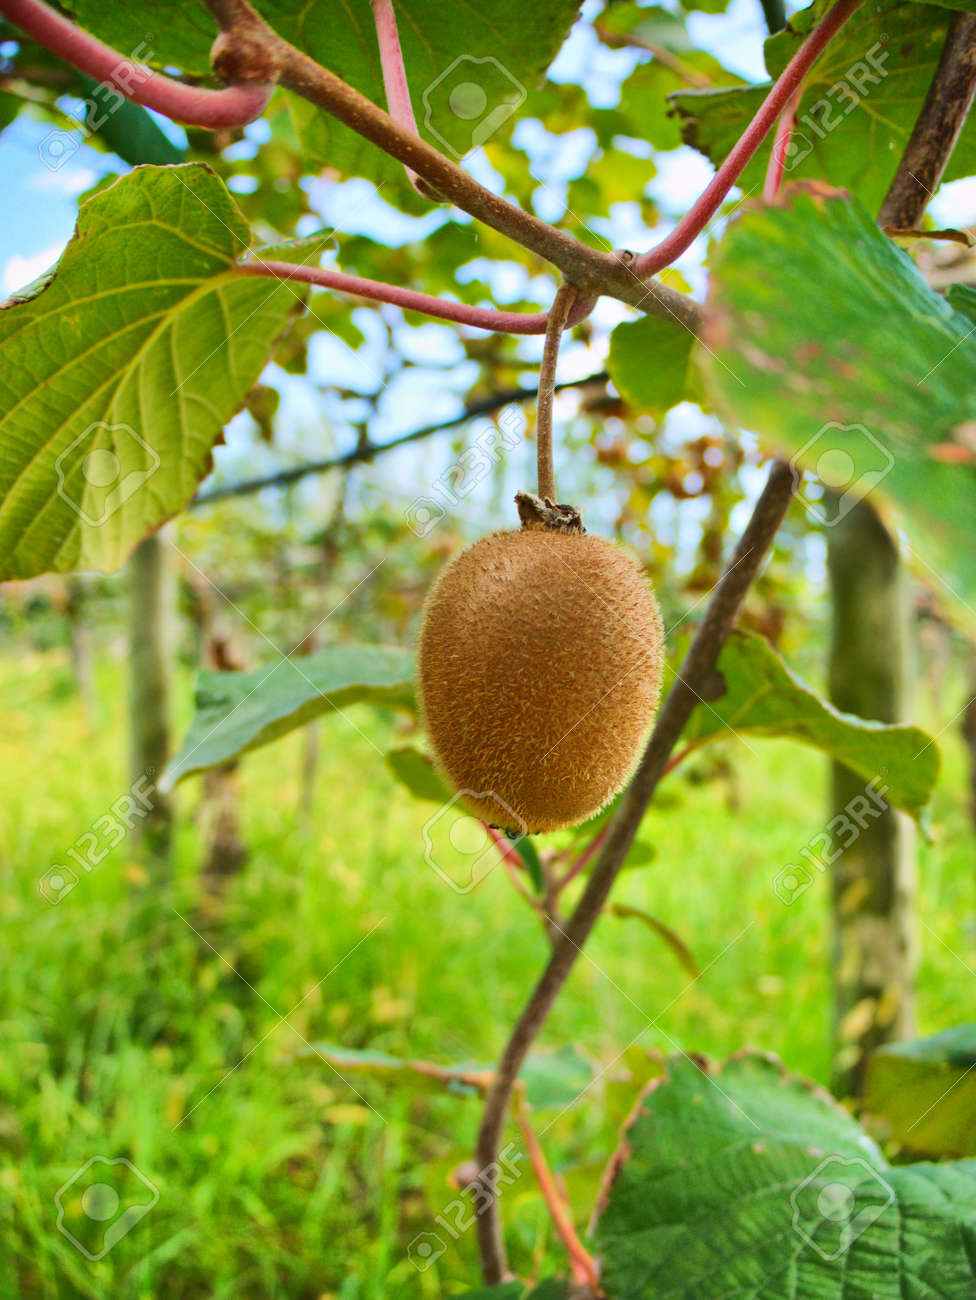kiwi: (324, 435, 727, 829)
